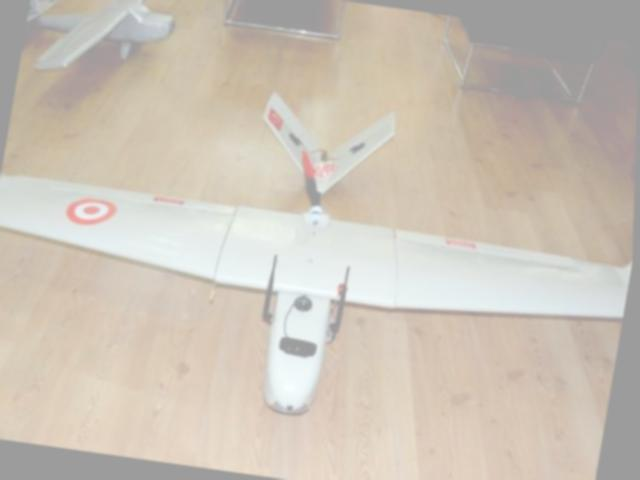iha: (0, 50, 639, 454)
